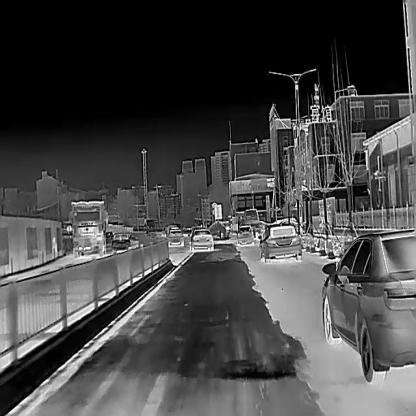car: (321, 228, 416, 383), (70, 199, 107, 255), (259, 224, 302, 263), (191, 228, 215, 251), (111, 231, 131, 252), (168, 226, 184, 247), (237, 224, 254, 243), (243, 208, 260, 224)
